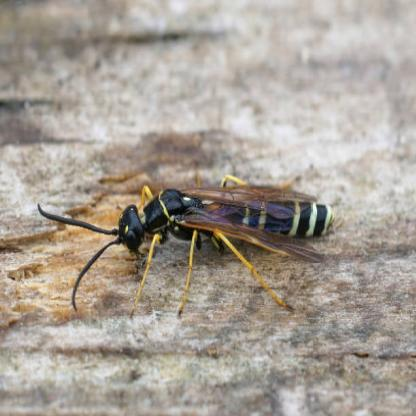sawfly: (34, 168, 341, 333)
